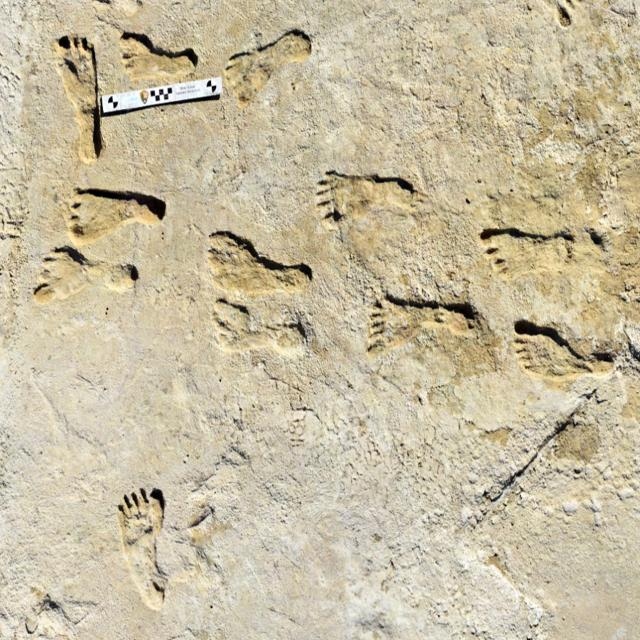human_footprint: (40, 38, 636, 586), (96, 73, 224, 119)
